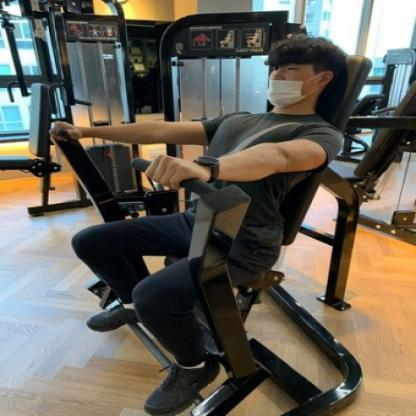Chest Press machine: (48, 8, 398, 416)
